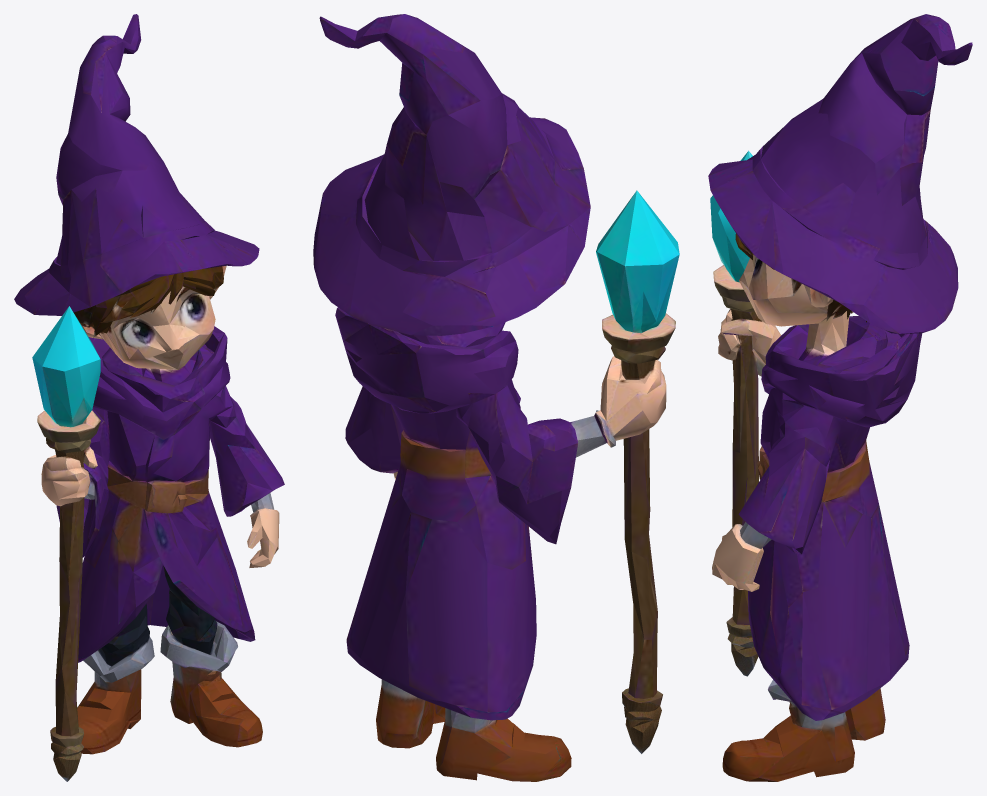
File: held.glb
3 views of the same model, side by side, from view 1: azimuth 30°, elevation 25°; view 2: azimuth 150°, elevation 25°; view 3: azimuth 270°, elevation 25° (orthographic). The views are drawn at different scales.
Size of the model in its own units: 0.7822 by 1.9 by 0.6259.
Materials: 1 (1 with a texture image).
